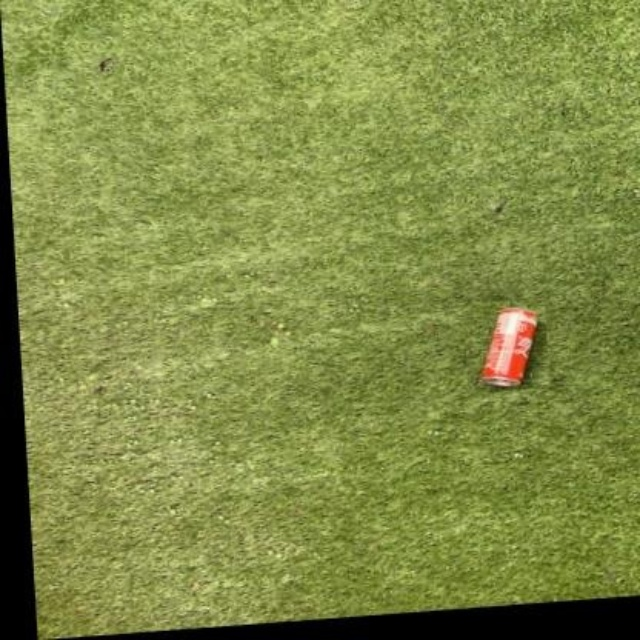trash: (480, 308, 535, 385)
